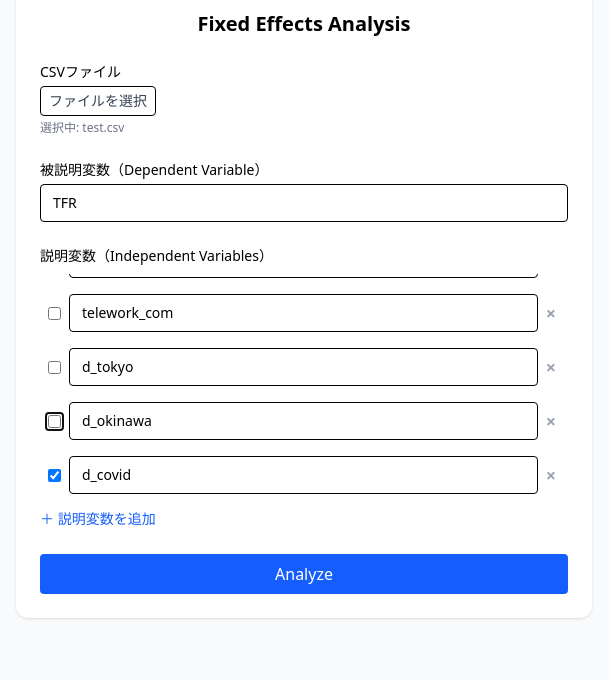
AnalysisPage - Integration Test › displays validation error when no independent variables are selected
The width and height of the screenshot is (609, 680).
Earlier steps of the test are not shown.
(page scrolled)
Click the 4th checkbox at [54, 475], box x1=48 y1=468 x2=61 y2=482
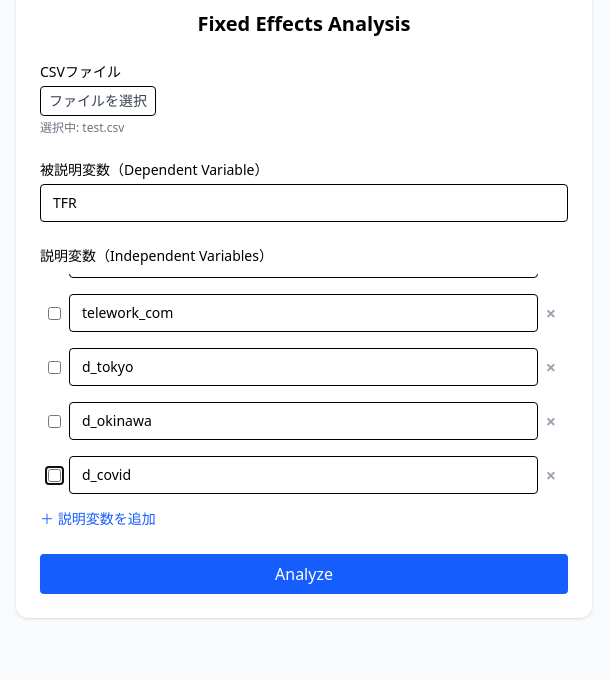
Click the button "Analyze" at [304, 574], box x1=40 y1=554 x2=568 y2=594
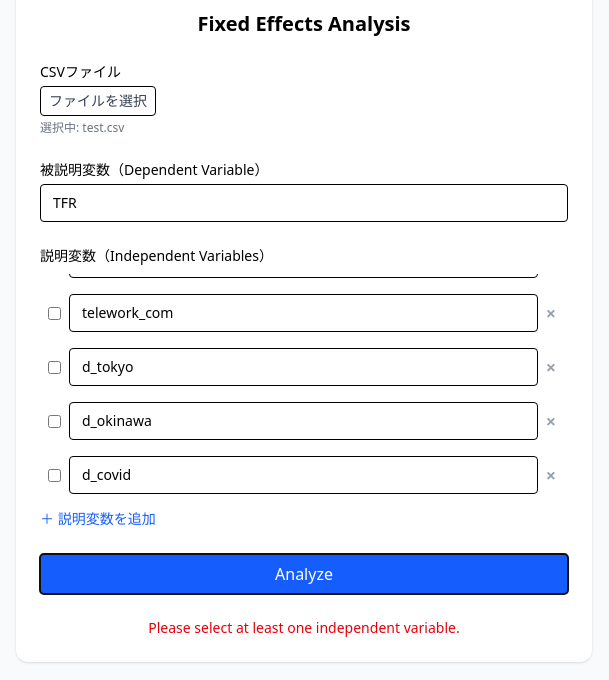
Now the text "Please select at least one independent variable." is shown, box x1=148 y1=618 x2=460 y2=637
